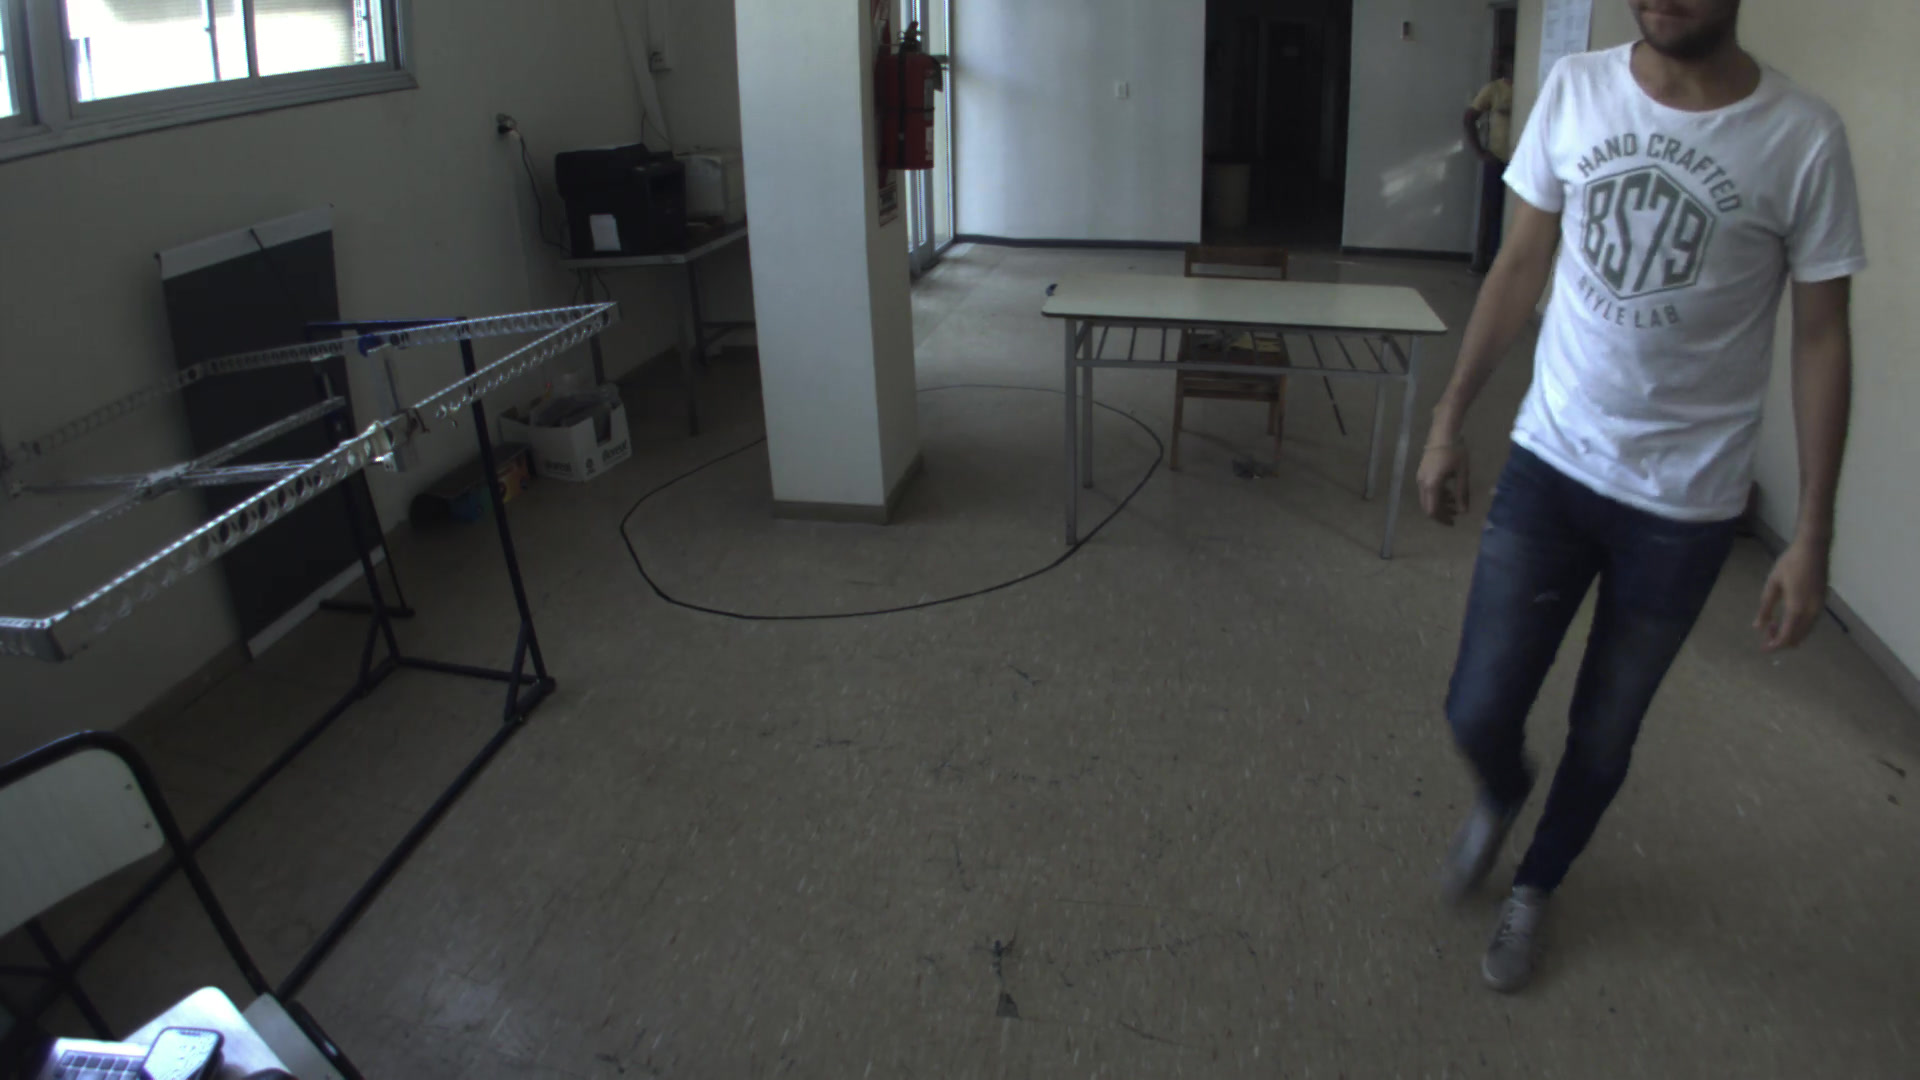hand: (1742, 535, 1832, 661), (1419, 419, 1480, 527)
